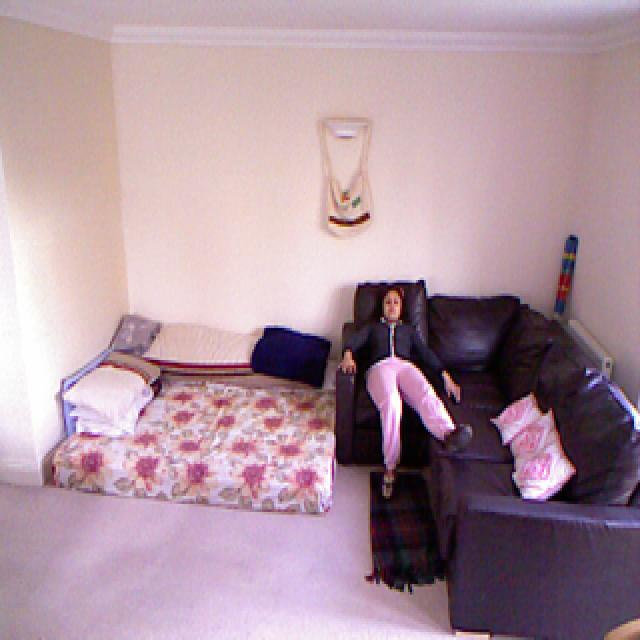lying: (344, 283, 478, 499)
